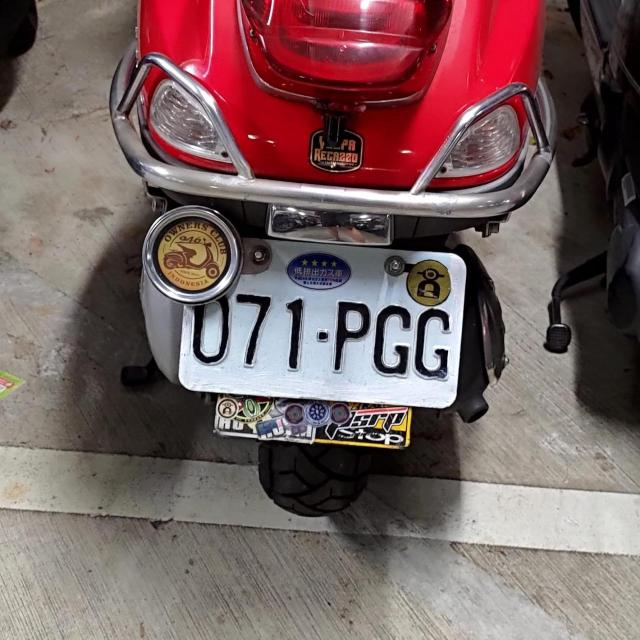W: (158, 222, 478, 434)
